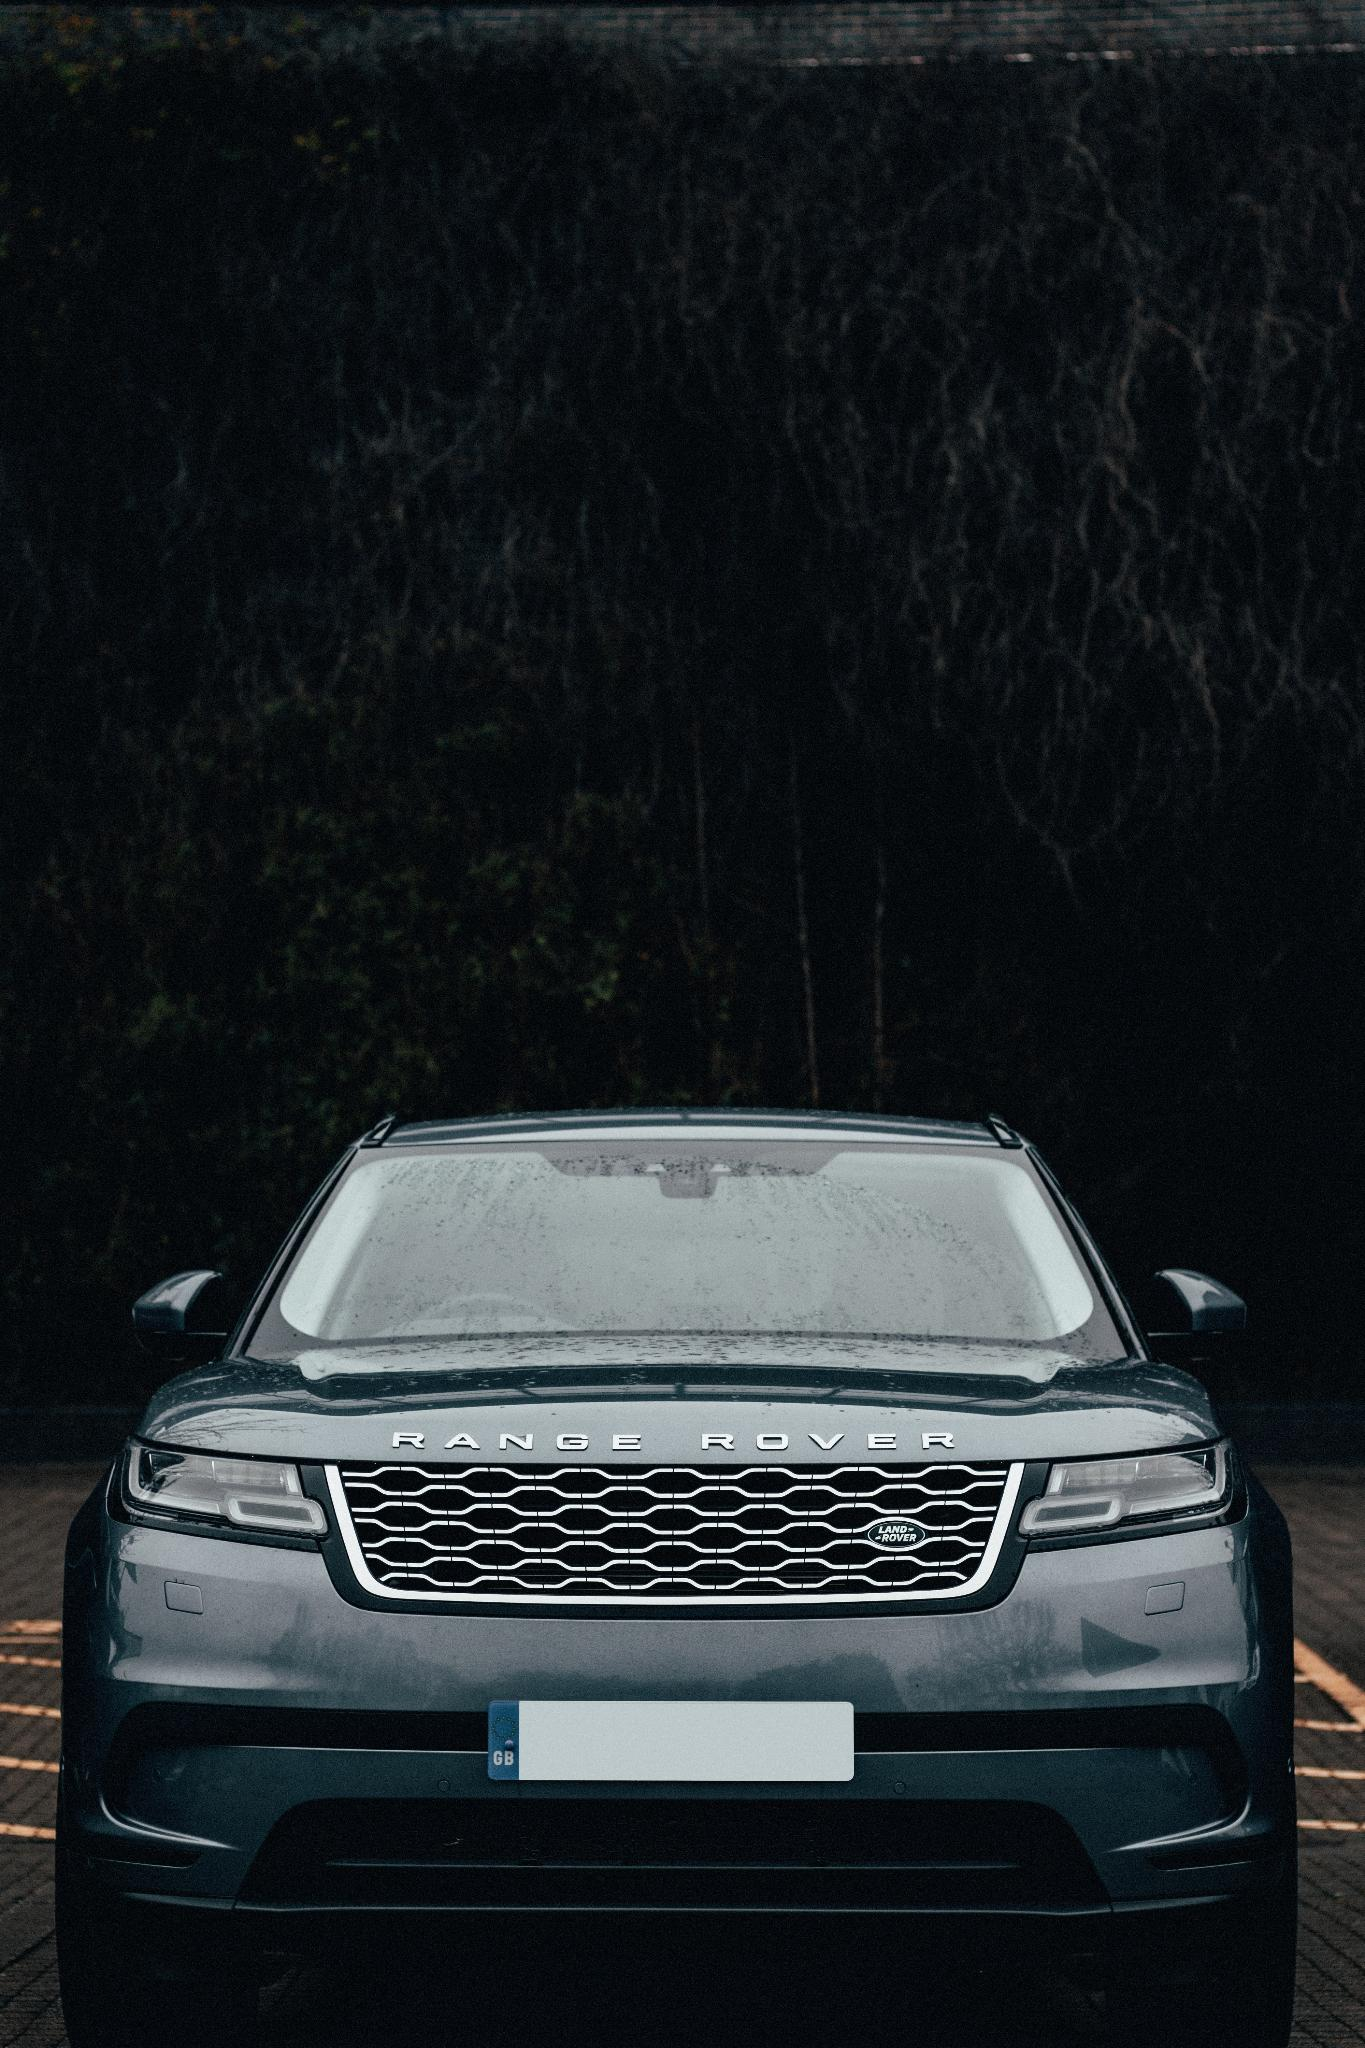range rover: (372, 1408, 960, 1469)
